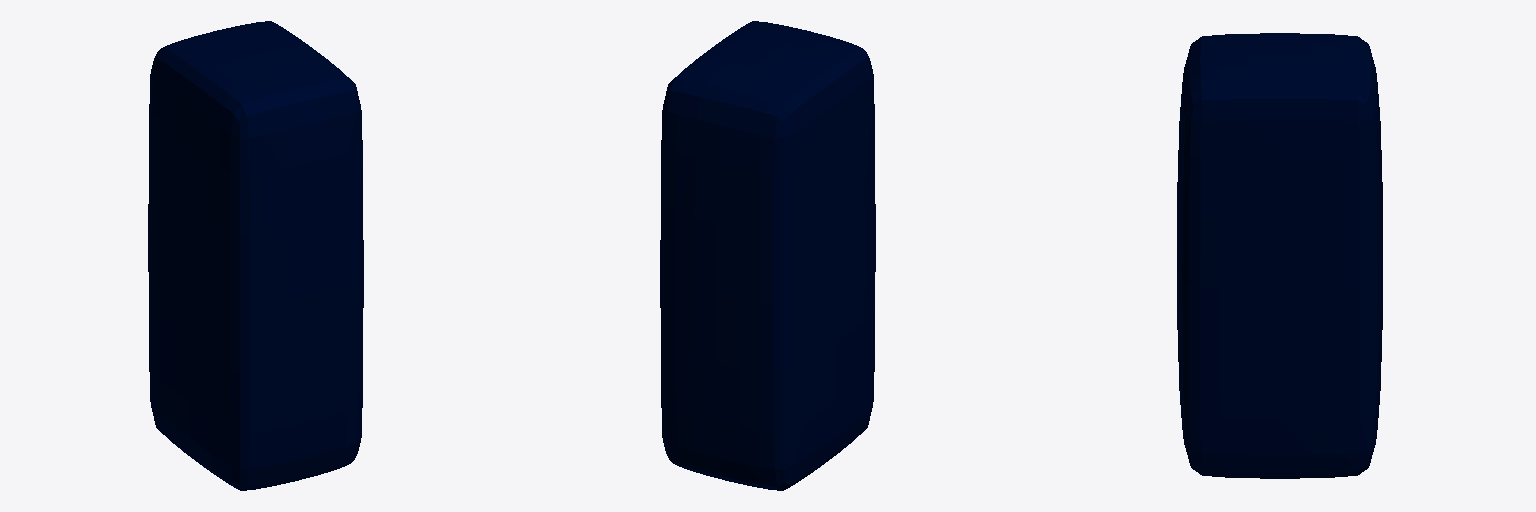
File: leg1.obj
The picture shows the model from 3 angles: view 1: azimuth 30°, elevation 25°; view 2: azimuth 150°, elevation 25°; view 3: azimuth 270°, elevation 25°; orthographic projection.
Visible parts, largest first — view 1: polySurface3 pCube15; view 2: polySurface3 pCube15; view 3: polySurface3 pCube15.
Boxes of the visible parts, x1=… form: polySurface3 pCube15: x1=148, y1=21, x2=363, y2=490; polySurface3 pCube15: x1=660, y1=21, x2=875, y2=490; polySurface3 pCube15: x1=1177, y1=33, x2=1382, y2=478.
Size of the model in its own units: 0.76 by 2.13 by 0.9908.